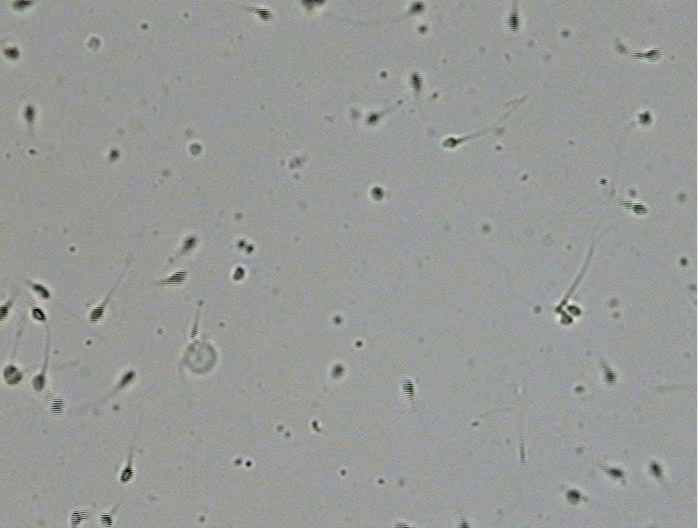Impurity: (184, 341, 216, 373), (86, 37, 100, 49)
S: (634, 46, 661, 61), (3, 365, 22, 385), (32, 283, 51, 299), (166, 271, 187, 284), (23, 104, 36, 124), (401, 379, 414, 399), (50, 398, 65, 415), (70, 511, 87, 526), (256, 7, 272, 22), (31, 374, 46, 390), (90, 305, 104, 322), (301, 1, 326, 10), (120, 371, 134, 387), (120, 466, 134, 482), (3, 47, 20, 60), (10, 1, 32, 11), (606, 467, 624, 479), (32, 307, 46, 322), (566, 489, 581, 503), (508, 12, 519, 31), (183, 236, 196, 252), (410, 72, 422, 89), (99, 513, 113, 527), (603, 368, 616, 383), (371, 186, 384, 200), (233, 266, 245, 281), (650, 461, 662, 476), (442, 137, 458, 148), (632, 203, 648, 214), (639, 111, 652, 124), (410, 2, 424, 14), (331, 365, 344, 377), (567, 305, 581, 316), (190, 143, 202, 155), (560, 313, 573, 324), (109, 149, 120, 160), (367, 113, 378, 124), (1, 305, 8, 321), (394, 522, 410, 528), (457, 520, 468, 528)
